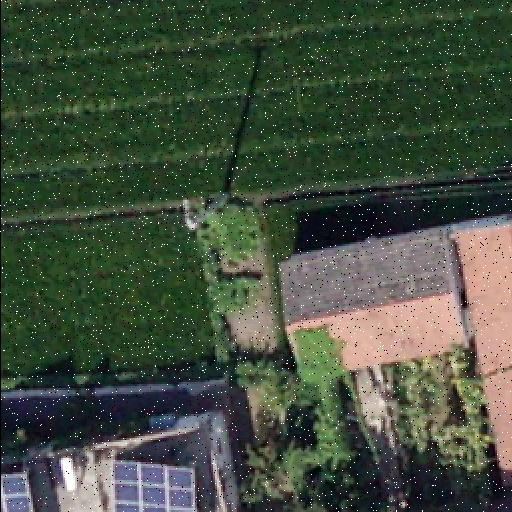solar-panel: (112, 457, 196, 511), (0, 473, 32, 511)
